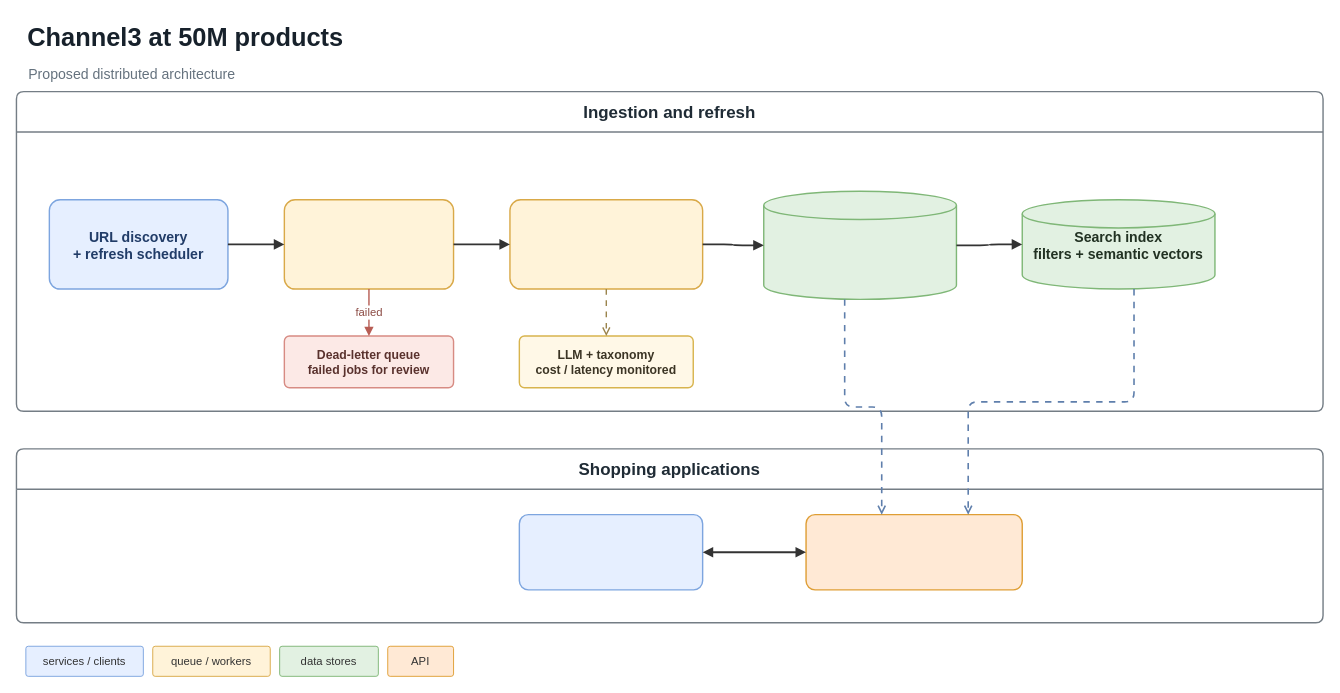
This 1340x693 diagram has some shape labels left out. The shapes that lost their labels are listed below. From the top down, each one's centre as x and y in pixels, then its label:
the point at 368,244: URL job queue leases + retries
the point at 606,244: Extraction workers fetch · distill · extract
the point at 860,245: Product database canonical URL · last refresh replicated + sharded
the point at 610,552: Shopping agents developer SDK
the point at 914,552: Product API search · details · batch price-change webhooks
